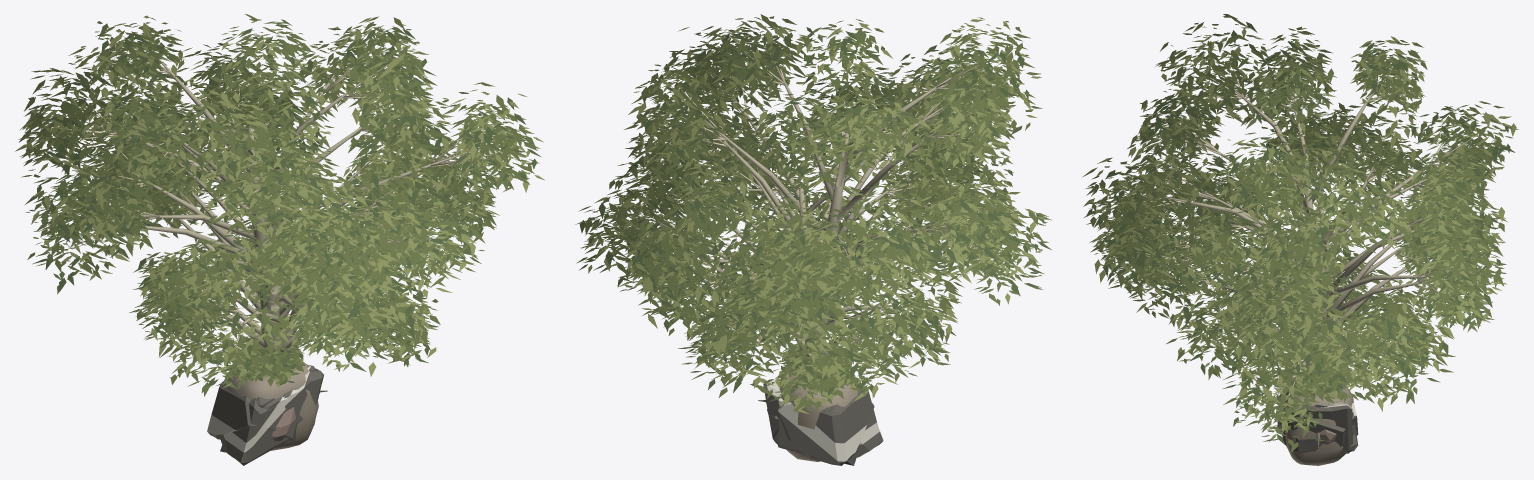
The model's file is environment.glb.
The picture shows the model from 3 angles, left to right: view 1: azimuth 30°, elevation 25°; view 2: azimuth 150°, elevation 25°; view 3: azimuth 270°, elevation 25°; orthographic projection. The views are drawn at different scales.
Visible parts, largest first — view 1: leaf_crown.001, leaf_crown.002, leaf_crown, leaf_crown.003, leaf_crown.004, leaf_crown.005, granite.001, host_joint2.002, host_joint0.001, leaf_shrub.002, host_joint0, host_joint2.001 (+5 smaller); view 2: leaf_crown.001, leaf_crown.002, leaf_crown, leaf_crown.003, leaf_crown.004, leaf_crown.005, host_joint2.002, granite.001, quartz_seam1.002, host_joint0.002, host_joint0.001, bark_trunk.001 (+4 smaller); view 3: leaf_crown.001, leaf_crown.002, leaf_crown, leaf_crown.003, leaf_crown.004, leaf_crown.005, granite.001, host_joint0.003, host_joint0.002, bark_fork.003, host_joint0.001, bark_fork.027 (+2 smaller).
Boxes of the visible parts, left/top/right/bottom form: leaf_crown.001: left=63, top=14, right=436, bottom=283; leaf_crown.002: left=15, top=36, right=485, bottom=292; leaf_crown: left=21, top=68, right=544, bottom=336; leaf_crown.003: left=89, top=98, right=451, bottom=367; leaf_crown.004: left=129, top=222, right=440, bottom=377; leaf_crown.005: left=133, top=215, right=412, bottom=396; granite.001: left=227, top=362, right=318, bottom=450; host_joint2.002: left=211, top=380, right=282, bottom=429; host_joint0.001: left=220, top=421, right=315, bottom=465; leaf_shrub.002: left=231, top=334, right=303, bottom=386; host_joint0: left=285, top=368, right=323, bottom=424; host_joint2.001: left=232, top=397, right=276, bottom=442; leaf_crown.001: left=624, top=14, right=1042, bottom=294; leaf_crown.002: left=575, top=39, right=1024, bottom=326; leaf_crown: left=614, top=27, right=1051, bottom=344; leaf_crown.003: left=618, top=117, right=1022, bottom=358; leaf_crown.004: left=677, top=184, right=936, bottom=401; leaf_crown.005: left=689, top=207, right=964, bottom=414; host_joint2.002: left=791, top=390, right=874, bottom=443; granite.001: left=780, top=375, right=858, bottom=461; quartz_seam1.002: left=778, top=402, right=866, bottom=461; host_joint0.002: left=767, top=406, right=854, bottom=465; host_joint0.001: left=778, top=404, right=883, bottom=459; bark_trunk.001: left=805, top=132, right=848, bottom=372; leaf_crown.001: left=1124, top=14, right=1429, bottom=318; leaf_crown.002: left=1092, top=83, right=1518, bottom=403; leaf_crown: left=1083, top=98, right=1506, bottom=372; leaf_crown.003: left=1108, top=157, right=1507, bottom=401; leaf_crown.004: left=1166, top=239, right=1455, bottom=452; leaf_crown.005: left=1194, top=261, right=1437, bottom=430; granite.001: left=1285, top=387, right=1353, bottom=465; host_joint0.003: left=1296, top=402, right=1353, bottom=453; host_joint0.002: left=1282, top=415, right=1358, bottom=446; bark_fork.003: left=1329, top=275, right=1433, bottom=296; host_joint0.001: left=1277, top=412, right=1358, bottom=453; bark_fork.027: left=1325, top=280, right=1431, bottom=319.
Bounding box in the file's own units: 11.32 × 10.43 × 10.74.
